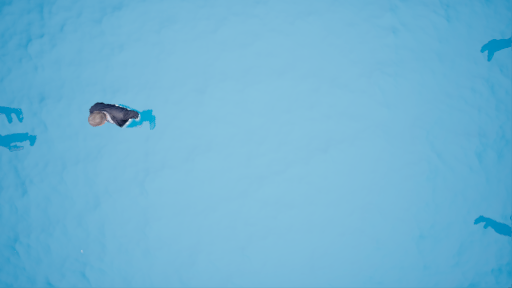person: (86, 95, 163, 139)
